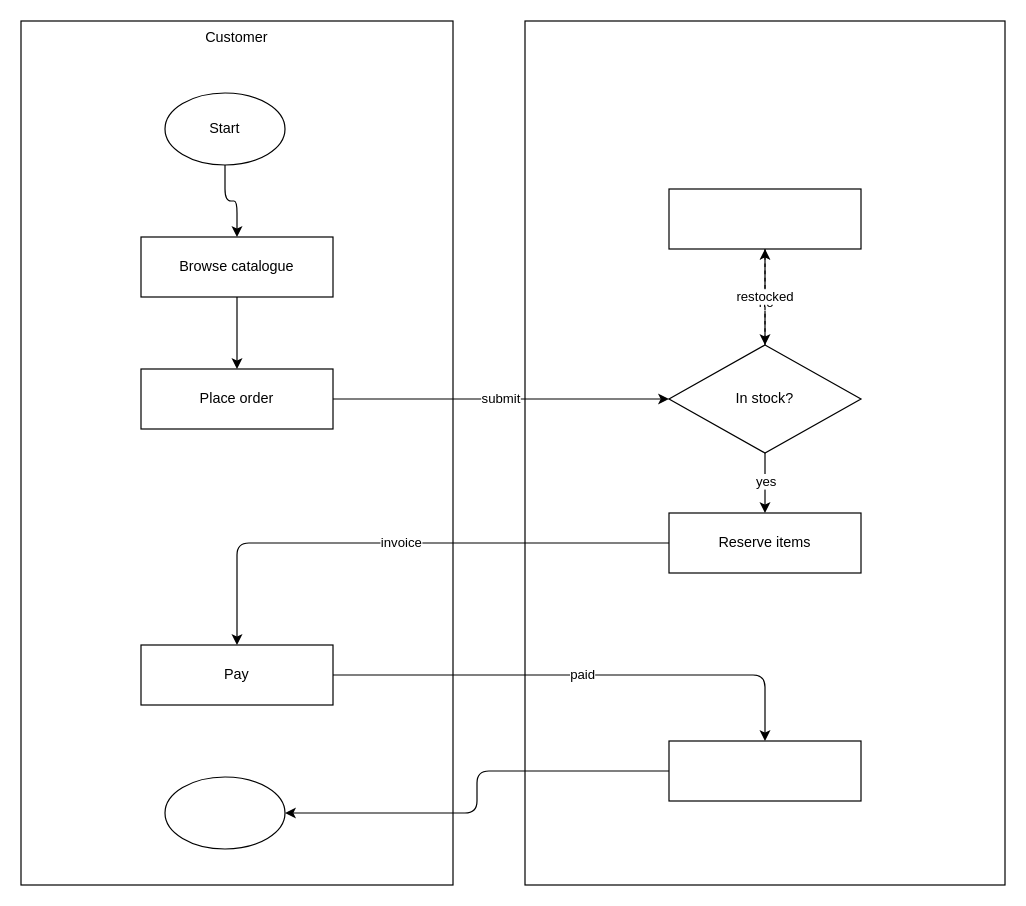
The diagram is 1026 pixels wide and 906 high, and some of its shapes have lost their labels. The shapes that lost their labels are listed below. From the top down, each one's box as (x1, y1, x2, y2) in pixels, then its label:
(668, 188, 861, 249): Create backorder
(524, 20, 1005, 885): Store
(668, 740, 861, 801): Ship parcel
(164, 776, 285, 849): End
